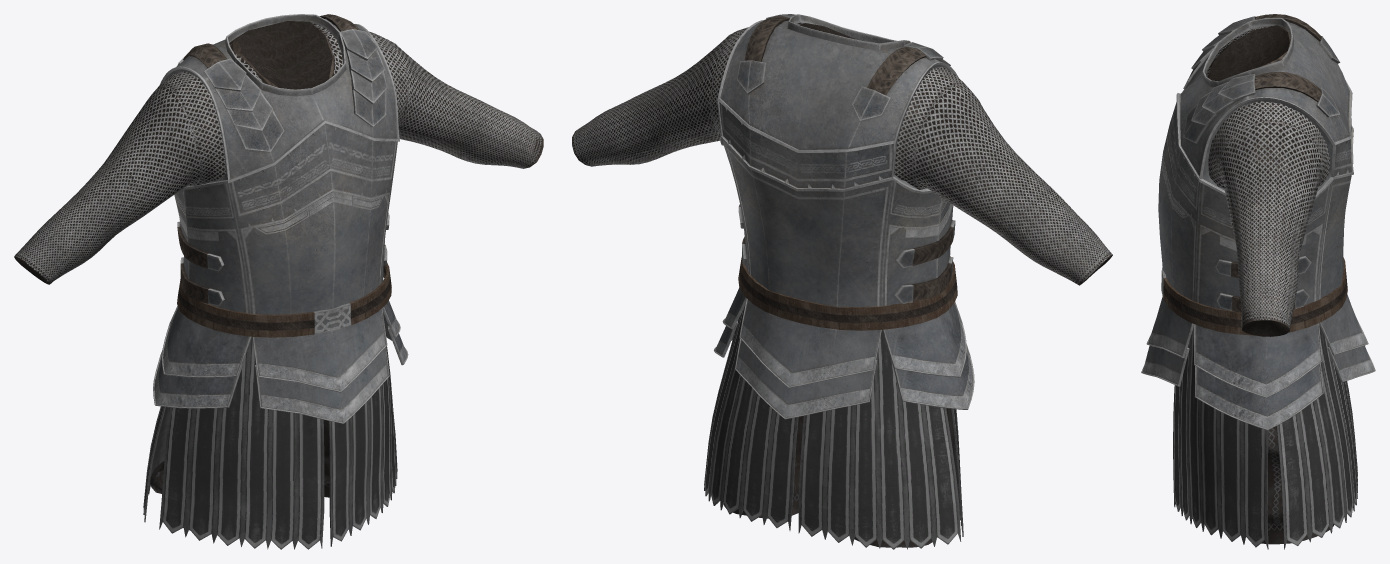
File: sk_dwarf_erebor_chest_plate_heavy_d.fbx
3 views of the same model, side by side, from view 1: azimuth 30°, elevation 25°; view 2: azimuth 150°, elevation 25°; view 3: azimuth 270°, elevation 25° (orthographic). The views are drawn at different scales.
Parts seen in each view (by area): view 1: sk_dwarf_erebor_chest_plate_heavy_d.2, sk_dwarf_erebor_chest_plate_heavy_d.1, sk_dwarf_erebor_chest_plate_heavy_d.0; view 2: sk_dwarf_erebor_chest_plate_heavy_d.2, sk_dwarf_erebor_chest_plate_heavy_d.1, sk_dwarf_erebor_chest_plate_heavy_d.0; view 3: sk_dwarf_erebor_chest_plate_heavy_d.2, sk_dwarf_erebor_chest_plate_heavy_d.1, sk_dwarf_erebor_chest_plate_heavy_d.0.
Boxes of the visible parts, bbox=[...] form: sk_dwarf_erebor_chest_plate_heavy_d.2: bbox=[153, 14, 408, 423]; sk_dwarf_erebor_chest_plate_heavy_d.1: bbox=[14, 21, 543, 337]; sk_dwarf_erebor_chest_plate_heavy_d.0: bbox=[143, 337, 397, 549]; sk_dwarf_erebor_chest_plate_heavy_d.2: bbox=[714, 14, 974, 419]; sk_dwarf_erebor_chest_plate_heavy_d.1: bbox=[572, 23, 1112, 330]; sk_dwarf_erebor_chest_plate_heavy_d.0: bbox=[704, 305, 963, 549]; sk_dwarf_erebor_chest_plate_heavy_d.2: bbox=[1141, 14, 1375, 430]; sk_dwarf_erebor_chest_plate_heavy_d.1: bbox=[1161, 25, 1347, 336]; sk_dwarf_erebor_chest_plate_heavy_d.0: bbox=[1173, 325, 1357, 549].
Bounding box in the file's own units: 1.16 × 0.4707 × 1.04.
3 materials, 3 textured.
